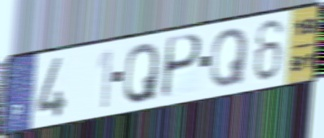1: (96, 45, 115, 112)
4: (34, 54, 68, 121)
6: (252, 17, 286, 85)
P: (159, 32, 204, 102)
Q: (208, 26, 250, 91), (121, 40, 160, 106)
